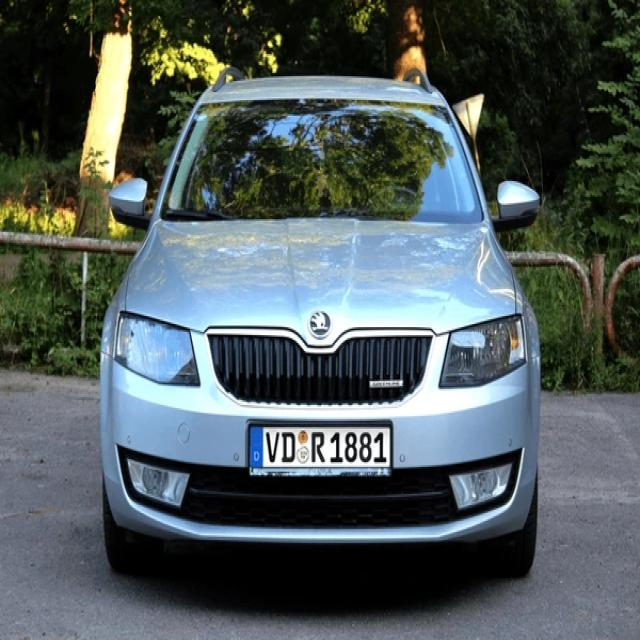skoda: (307, 308, 331, 338)
